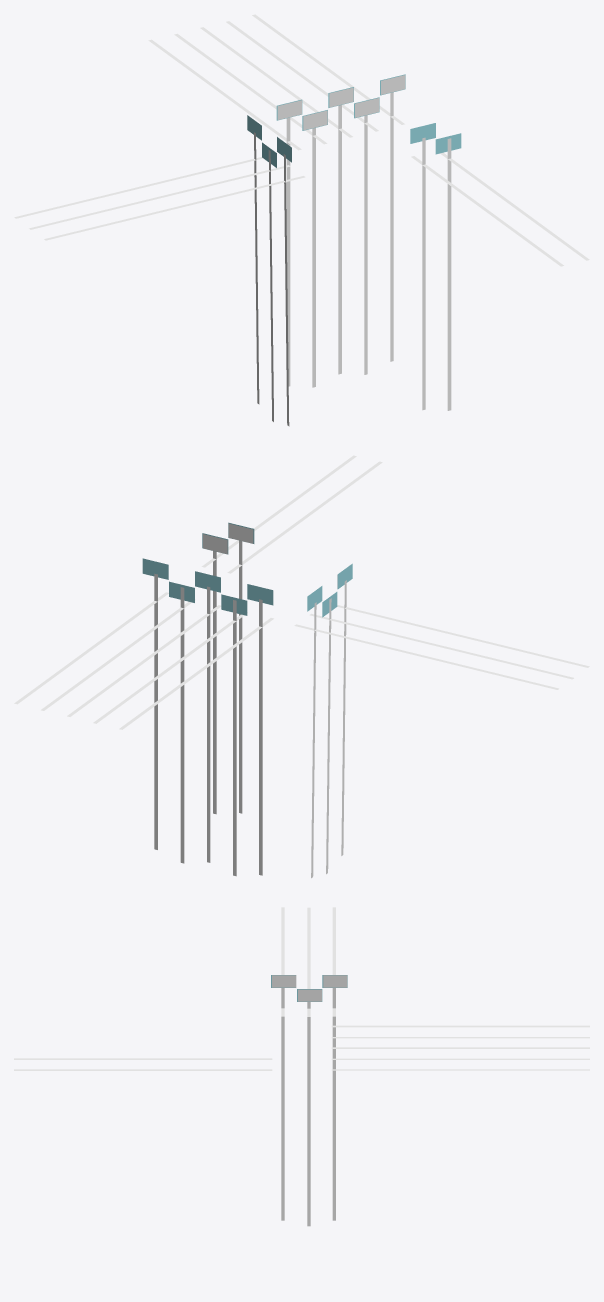
The model's file is OptimizedSpawns.fbx.
3 renders of one model, top to bottom at view 1: azimuth 30°, elevation 25°; view 2: azimuth 150°, elevation 25°; view 3: azimuth 270°, elevation 25°, orthographic. The views are drawn at different scales.
Parts seen in each view (by area): view 1: Dots_on_line_001__2__4, BorderFx, FX; view 2: Dots_on_line_001__2__4, BorderFx, FX; view 3: Dots_on_line_001__2__4, FX.
Boxes of the visible parts, x1,y1,x2,y2 form: Dots_on_line_001__2__4: (14,14,589,426); BorderFx: (247,74,461,167); FX: (277,75,405,130); Dots_on_line_001__2__4: (14,455,589,878); BorderFx: (142,522,352,617); FX: (203,523,337,588); Dots_on_line_001__2__4: (14,907,589,1226); FX: (272,975,347,1001).
Size of the model in its own units: 59.98 by 41.62 by 86.82.
